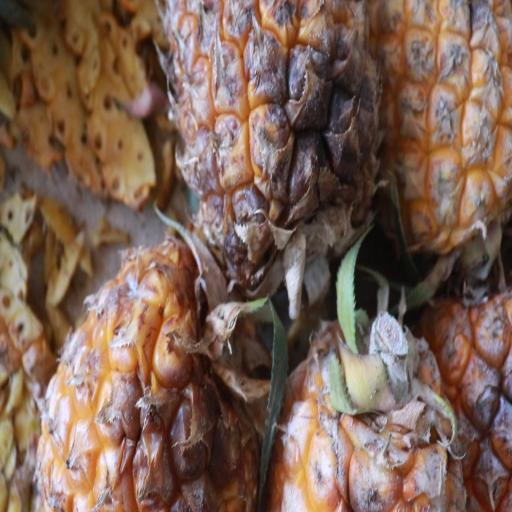Pineapple - v8 v1: (34, 227, 276, 510), (160, 1, 384, 305), (265, 302, 479, 511), (366, 1, 512, 267)
